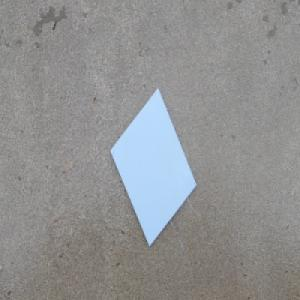PaintChip: (108, 85, 196, 248)
